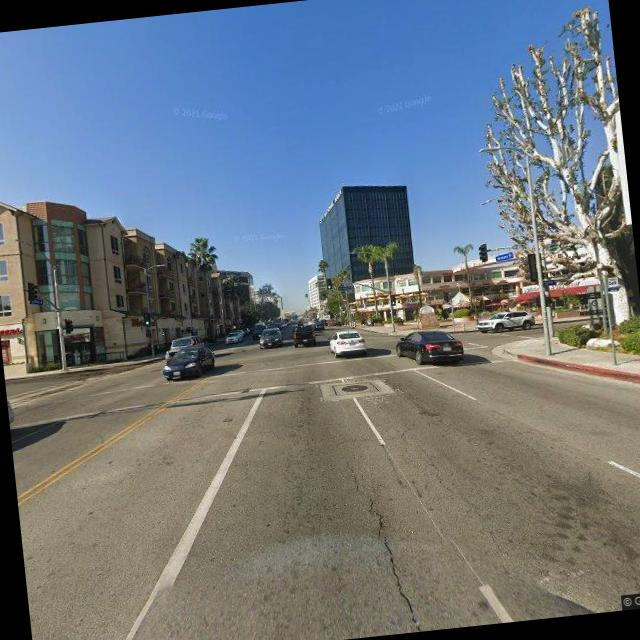pothole: (345, 454, 427, 636)
